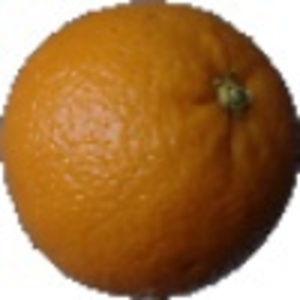laranja: (2, 3, 298, 298)
